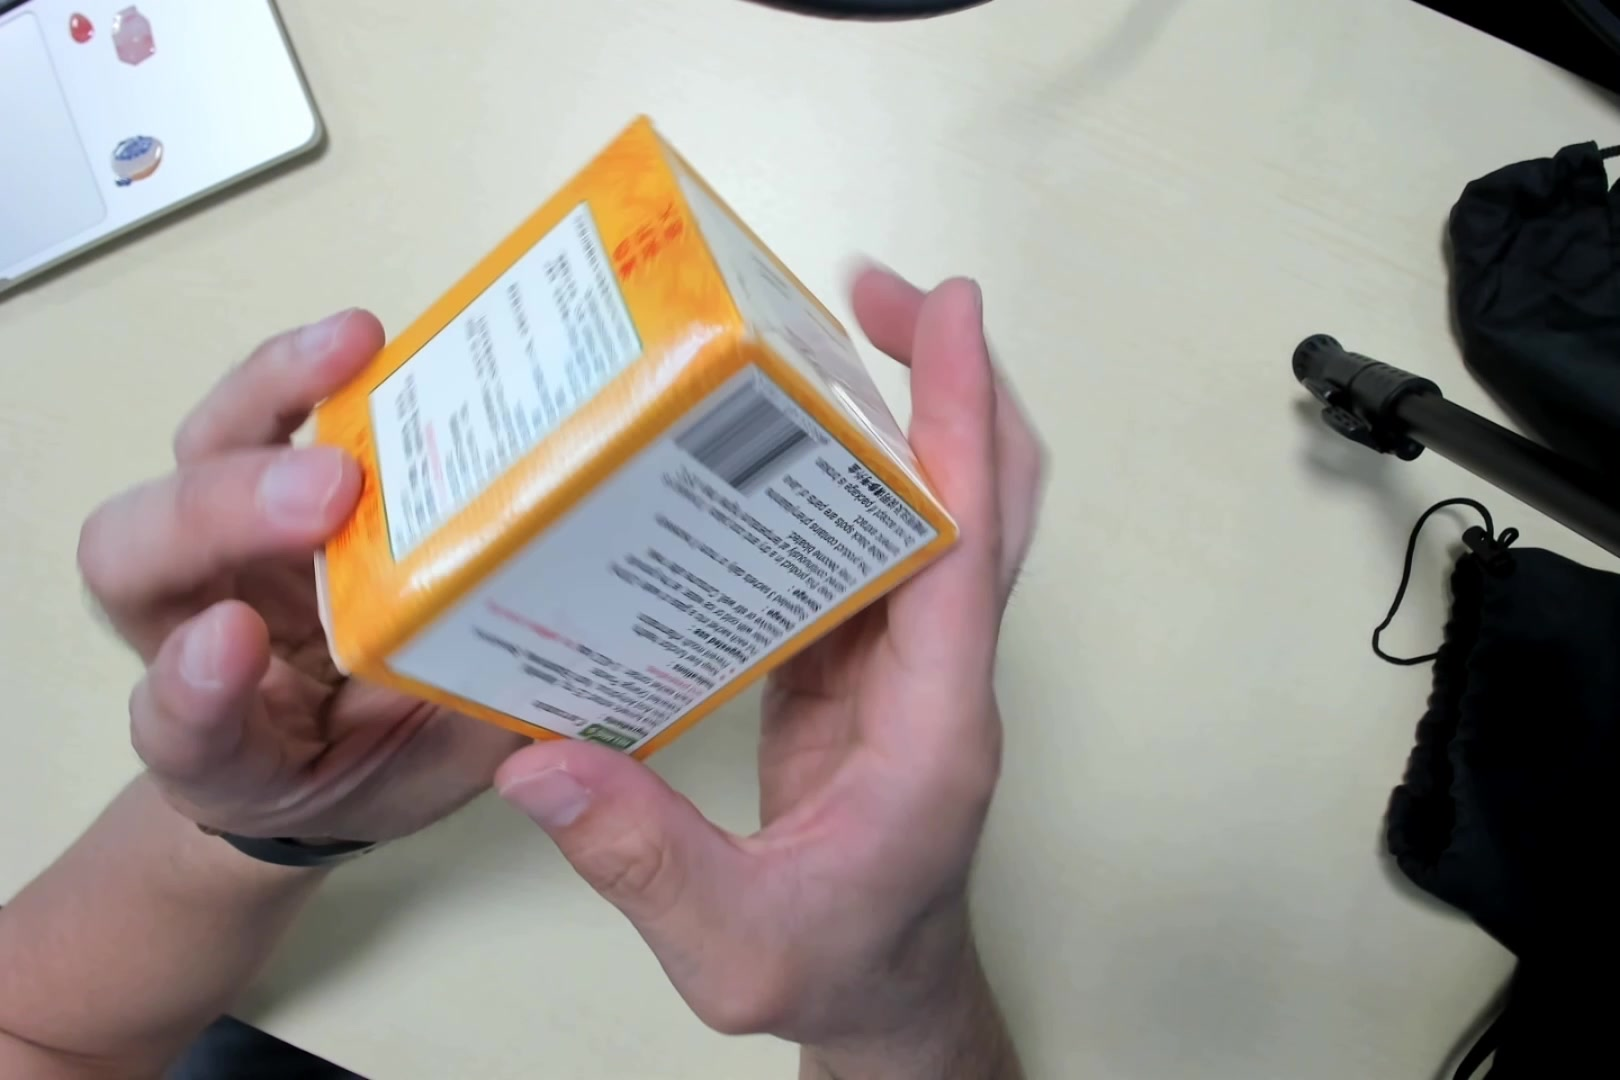OtherHotBeverages(Powder)_0-99g_Halal_NonHealthy: (299, 122, 944, 775)
